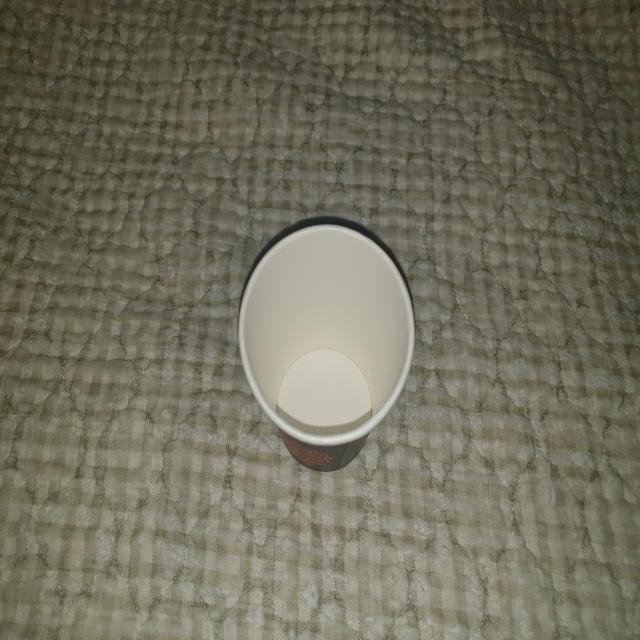cups: (236, 213, 424, 476)
